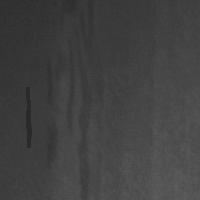inclusion: (67, 1, 98, 198), (42, 52, 64, 170), (25, 85, 31, 139), (25, 108, 30, 149)
